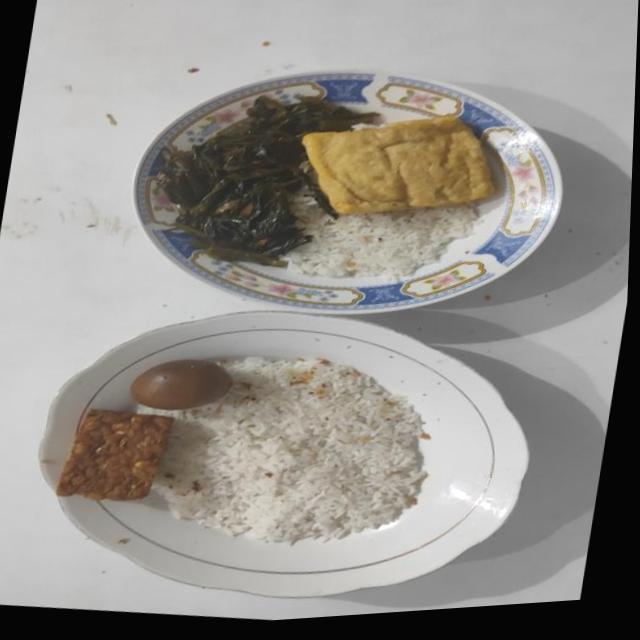nasi_putih: (154, 357, 428, 544), (284, 189, 482, 282)
tahu_goreng: (302, 115, 494, 214)
tempe_goreng: (56, 408, 173, 501)
tumis_kangkung: (158, 95, 376, 262)
